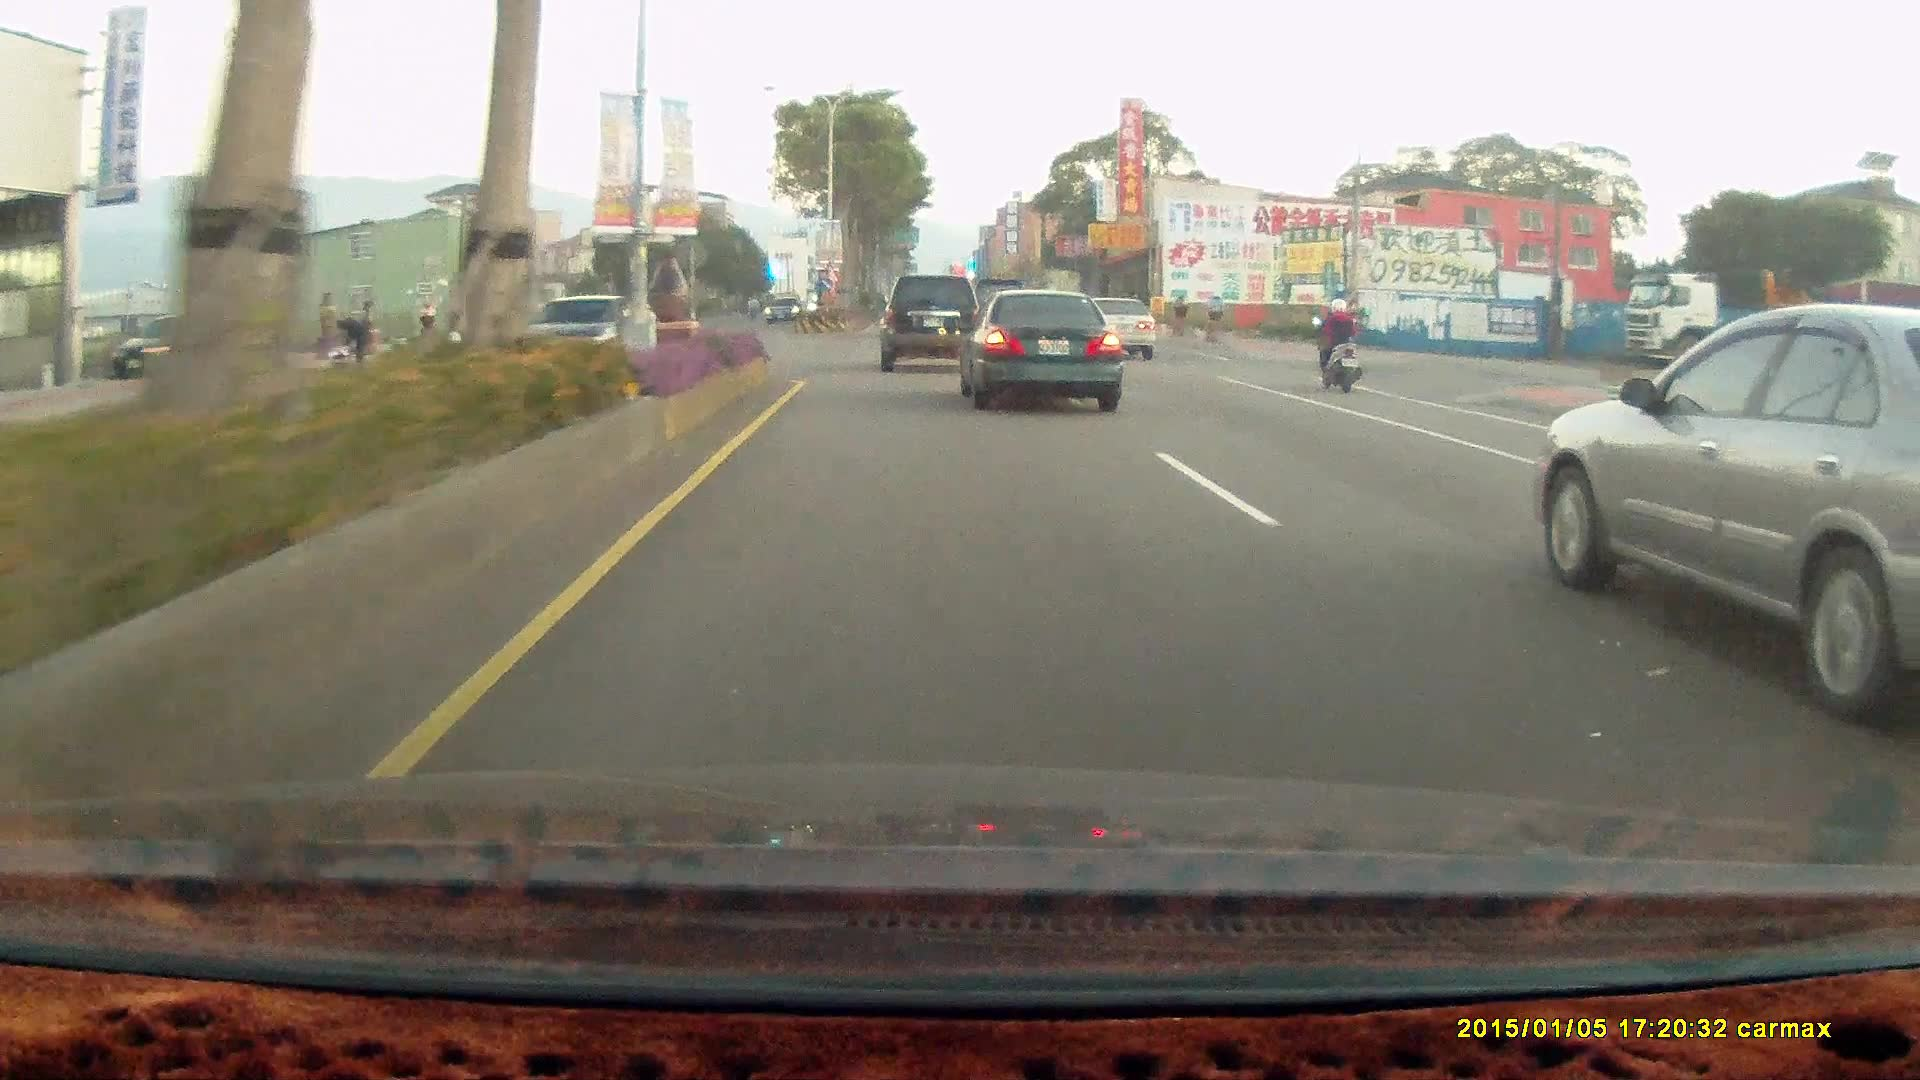pedestrian: (334, 314, 369, 363)
rider: (1303, 291, 1373, 401), (1308, 292, 1364, 389)
vehicle: (1536, 302, 1920, 724), (1621, 271, 1920, 370), (949, 290, 1116, 412), (965, 294, 1128, 415), (519, 288, 643, 375), (880, 274, 987, 374), (879, 274, 981, 370), (525, 289, 633, 376), (102, 311, 217, 381), (110, 313, 223, 380), (1075, 296, 1160, 361), (761, 297, 808, 326), (763, 294, 803, 323)
